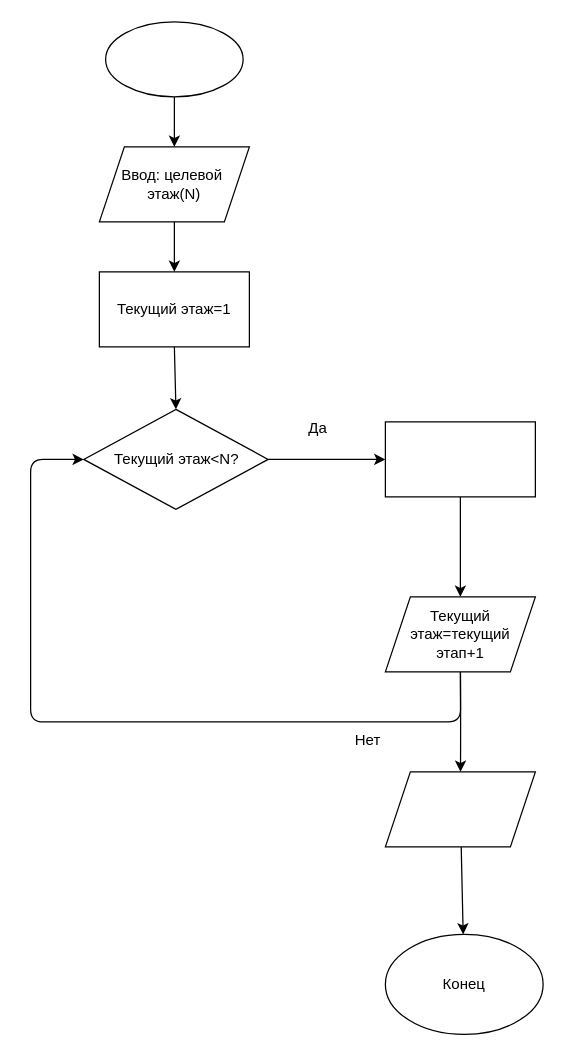
Some shapes in this 565 by 1056 pixel diagram are drawn without their labels. Here are the shapes that lost their labels. From the top down, the box of each, then its label:
(104, 21, 243, 97): Начало
(384, 421, 535, 497): Поднять на этаж выше
(384, 771, 535, 847): Вы на целевом этаже
